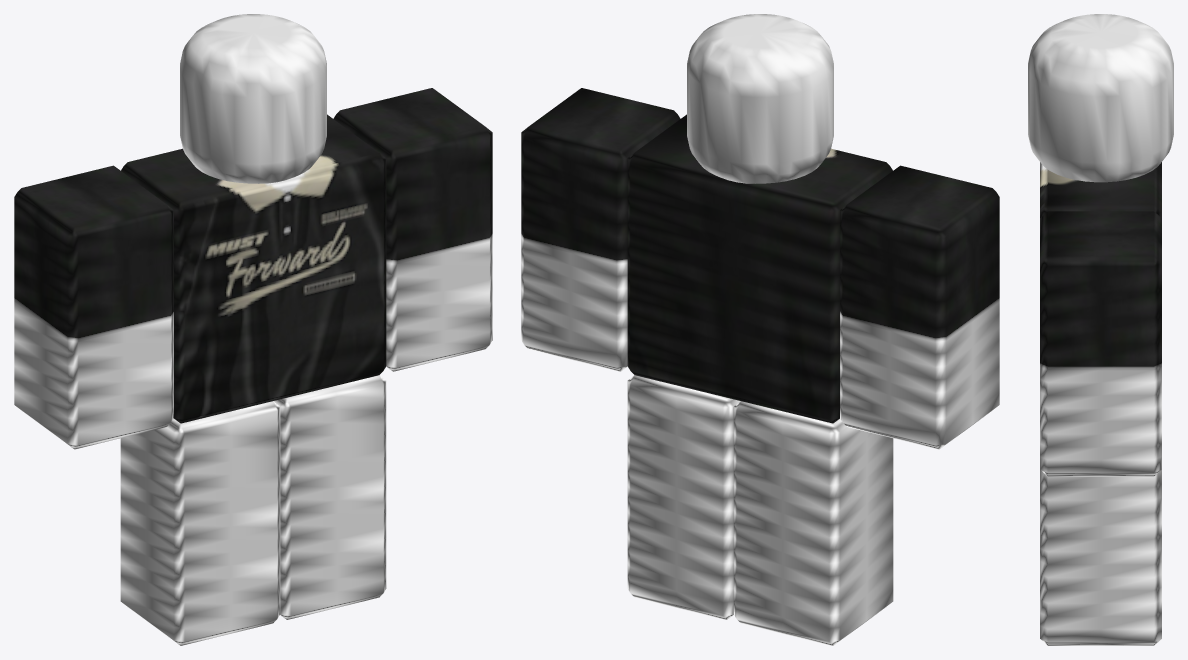
The picture shows the model from 3 angles, left to right: view 1: azimuth 30°, elevation 25°; view 2: azimuth 150°, elevation 25°; view 3: azimuth 270°, elevation 25°; orthographic projection.
Parts seen in each view (by area): view 1: Torso, Right Arm, Right Leg, Left Arm, Left Leg, Head; view 2: Torso, Right Arm, Right Leg, Left Arm, Left Leg, Head; view 3: Left Arm, Head, Left Leg, Torso.
Part boxes in pixels (left/top/right/bottom): Torso: left=121, top=114, right=386, bottom=423; Right Arm: left=14, top=165, right=173, bottom=449; Right Leg: left=120, top=401, right=280, bottom=645; Left Arm: left=333, top=88, right=492, bottom=371; Left Leg: left=273, top=375, right=386, bottom=619; Head: left=180, top=14, right=326, bottom=183; Torso: left=627, top=114, right=892, bottom=423; Right Arm: left=840, top=165, right=999, bottom=449; Right Leg: left=733, top=401, right=893, bottom=645; Left Arm: left=521, top=88, right=680, bottom=371; Left Leg: left=627, top=375, right=740, bottom=619; Head: left=687, top=14, right=833, bottom=183; Left Arm: left=1040, top=211, right=1161, bottom=476; Head: left=1028, top=14, right=1173, bottom=182; Left Leg: left=1040, top=470, right=1161, bottom=645; Torso: left=1040, top=162, right=1161, bottom=217.
Size of the model in its own units: 4 by 5.12 by 1.2.
1 material, 1 textured.
